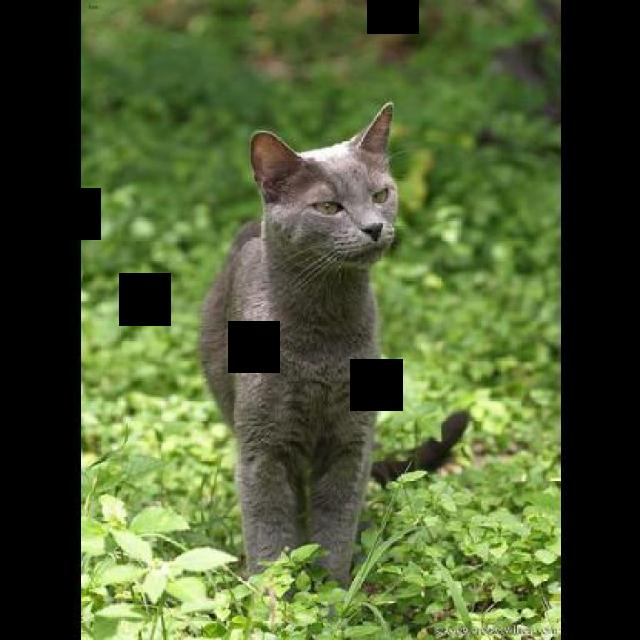unauthorized: (196, 100, 470, 600)
